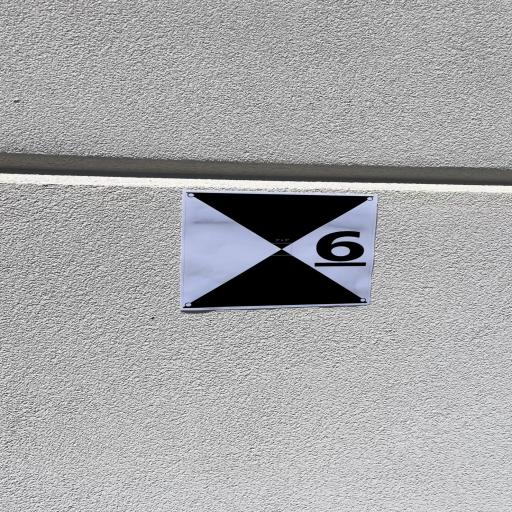target6: (181, 190, 378, 313)
